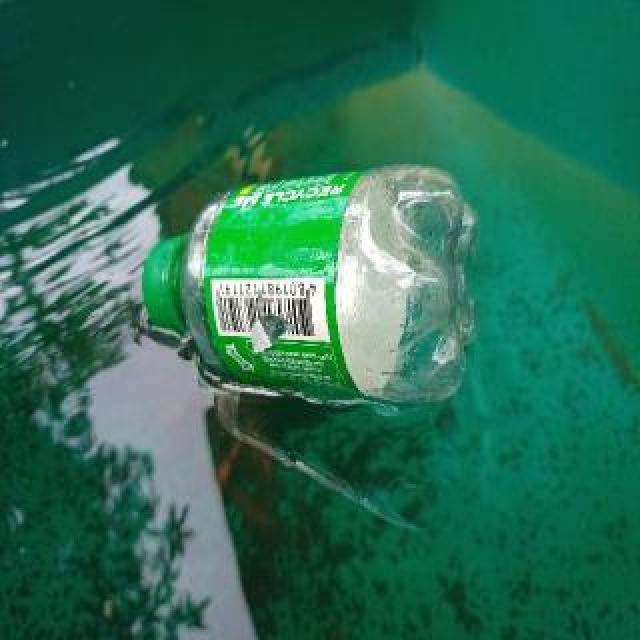Bottle: (144, 163, 480, 409)
